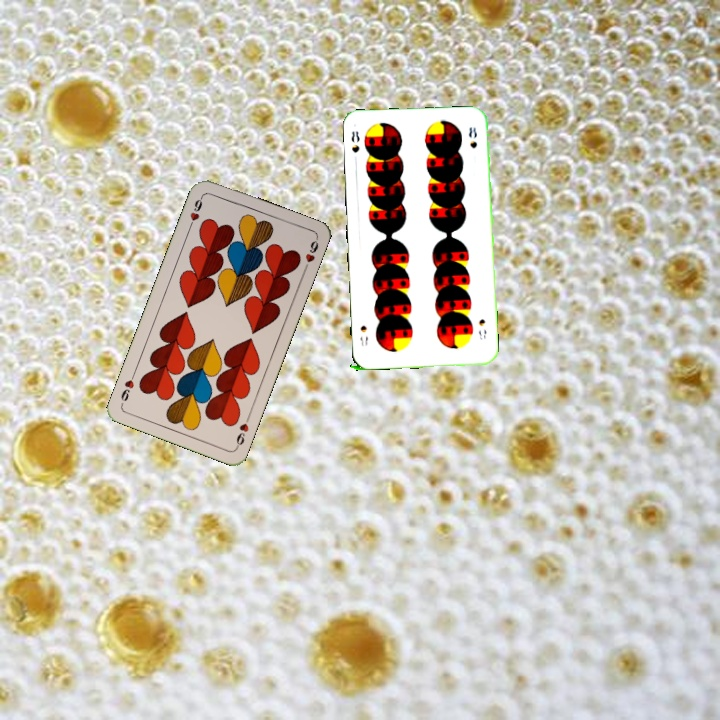H9: (232, 412, 253, 451), (185, 192, 206, 231)
S8: (347, 127, 362, 155), (474, 315, 489, 342)
